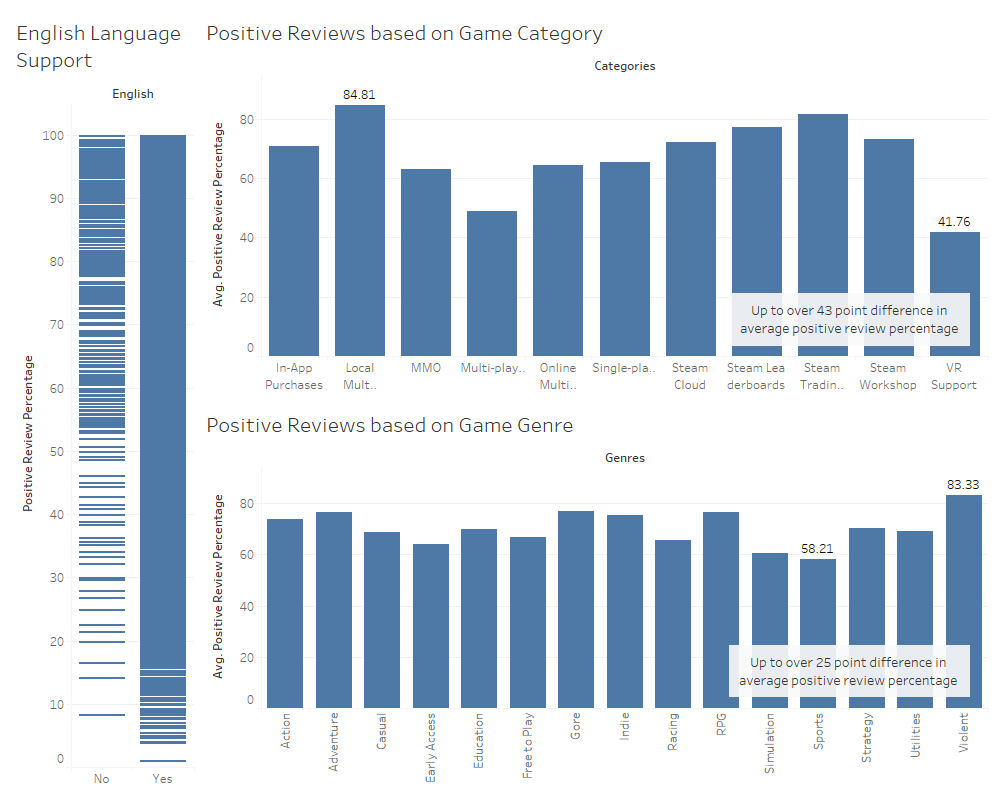

This screenshot's page, from the dashboard's own definition file:
{"tool":"tableau","page":{"name":"Type","canvas":[1000,800],"ordinal":3},"visuals":[{"type":"worksheet","title":"Language","mark":"Automatic","rows":["Calculation_786159644411617280"],"cols":["english"],"box":[8,8,190,784]},{"type":"worksheet","title":"Categories","mark":"Automatic","rows":["Calculation_786159644411617280"],"cols":["categories"],"box":[198,8,794,392]},{"type":"worksheet","title":"Genres","mark":"Automatic","rows":["Calculation_786159644411617280"],"cols":["genres"],"box":[198,400,794,392]}]}

Visuals, with their boxes in screenshot pixels (x1, y1, x2, y2), scaled from the page's 1000x800 canvas onto the 1000x800 screenshot:
"Language" worksheet: pyautogui.locateOnScreen(8, 8, 198, 792)
"Categories" worksheet: pyautogui.locateOnScreen(198, 8, 992, 400)
"Genres" worksheet: pyautogui.locateOnScreen(198, 400, 992, 792)
